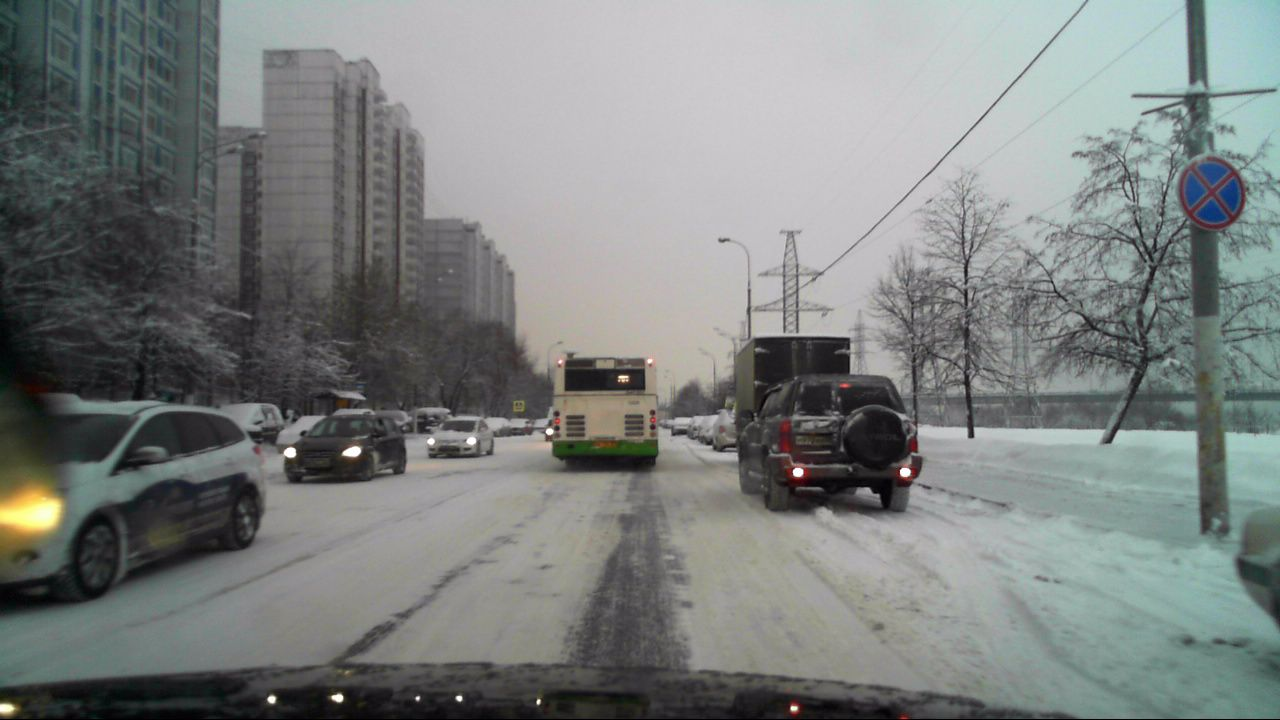No Parking: (1172, 151, 1249, 229)
